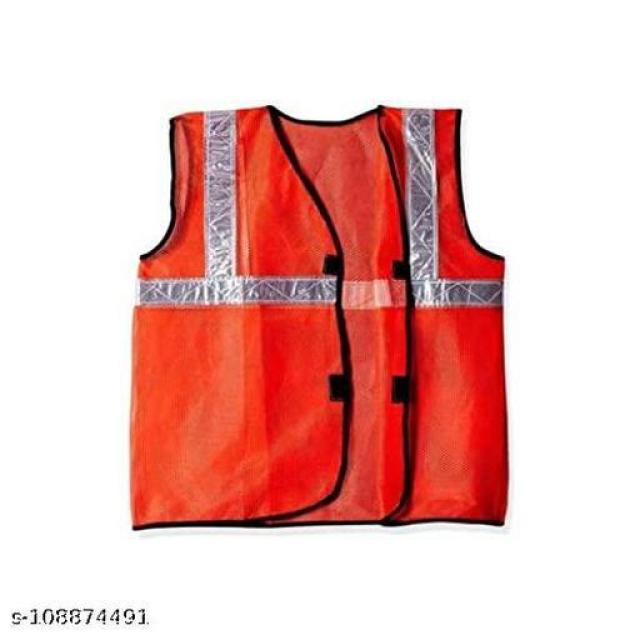Reflective-Jacket: (40, 40, 572, 551)
